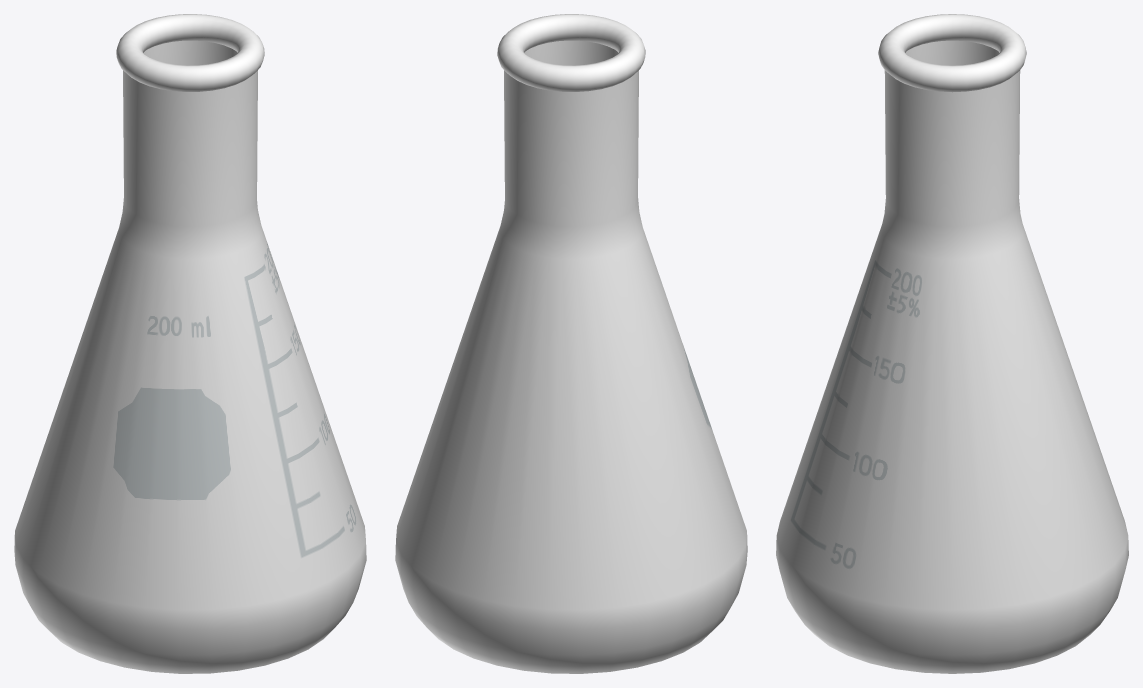
The model's file is Erlenmeyer_Flask_200ml.fbx.
3 renders of one model, left to right at view 1: azimuth 30°, elevation 25°; view 2: azimuth 150°, elevation 25°; view 3: azimuth 270°, elevation 25°, orthographic.
Visible parts, largest first — view 1: Cylinder.001; view 2: Cylinder.001; view 3: Cylinder.001.
Part boxes in pixels (<box>): Cylinder.001: <box>14,14,366,673</box>; Cylinder.001: <box>395,14,747,673</box>; Cylinder.001: <box>776,14,1128,673</box>.
Size of the model in its own units: 7.95 by 14.3 by 7.95.
